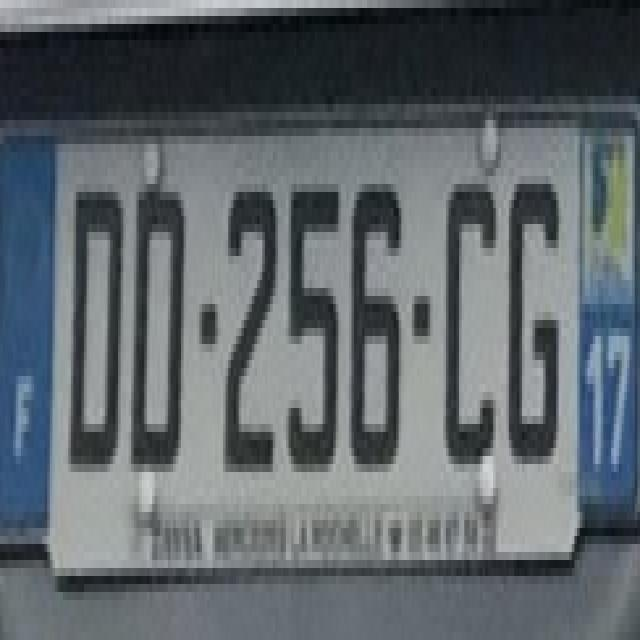EU: (0, 114, 640, 594)
France: (0, 138, 49, 539)
